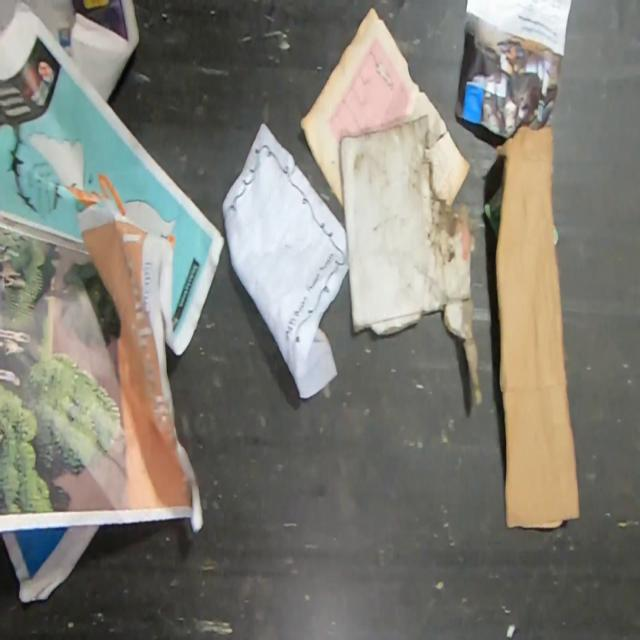cardboard: (339, 113, 486, 409), (493, 122, 580, 529)
